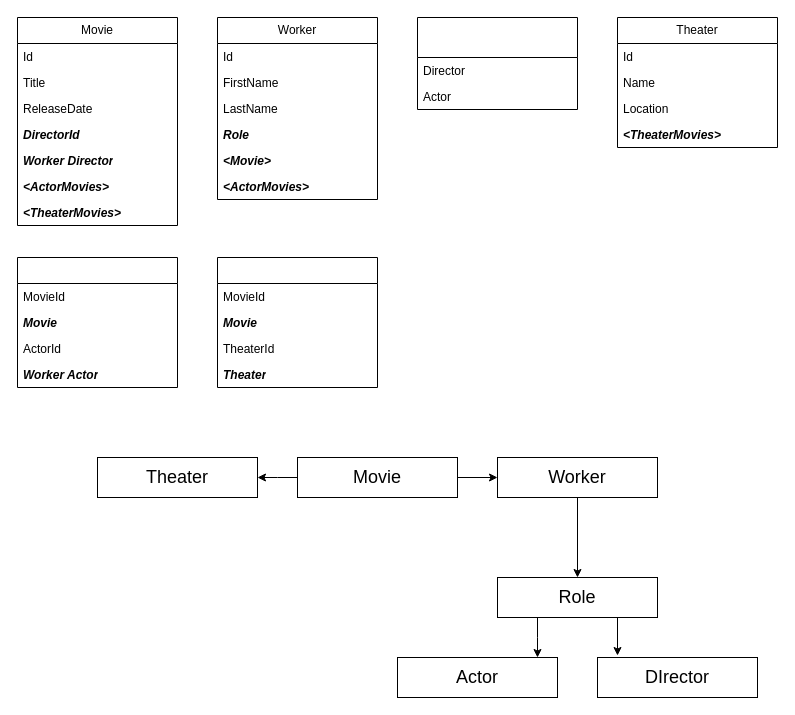
Some shapes in this 795 by 715 pixel diagram are drawn without their labels. The shapes that lost their labels are listed below. From the top down, each one's box as (x1, y1, x2, y2) in pixels, then its label:
(416, 16, 578, 110): <<enumeration>> Role
(16, 256, 178, 388): ActorMovies (join)
(216, 256, 378, 388): TheaterMovies (join)
